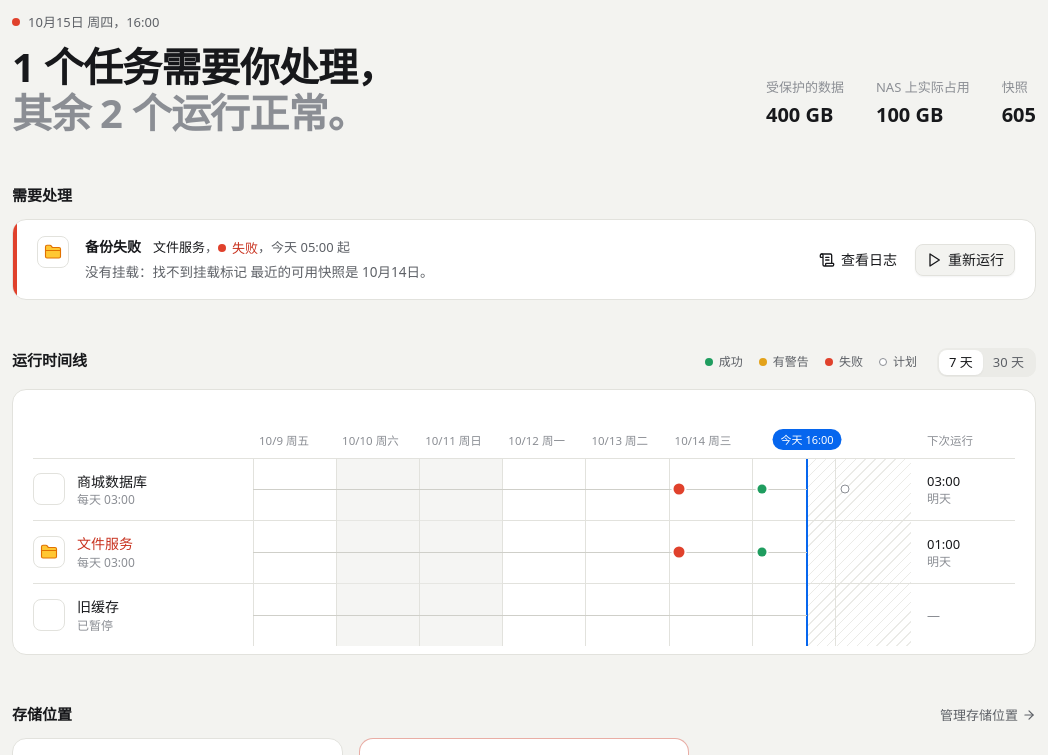
概览页 › 时间线：悬停显示时间和结果
Hover over the link named "今天 03:00，成功" in the row of "商城数据库": {"x": 762, "y": 489} 758,485 -> 767,494
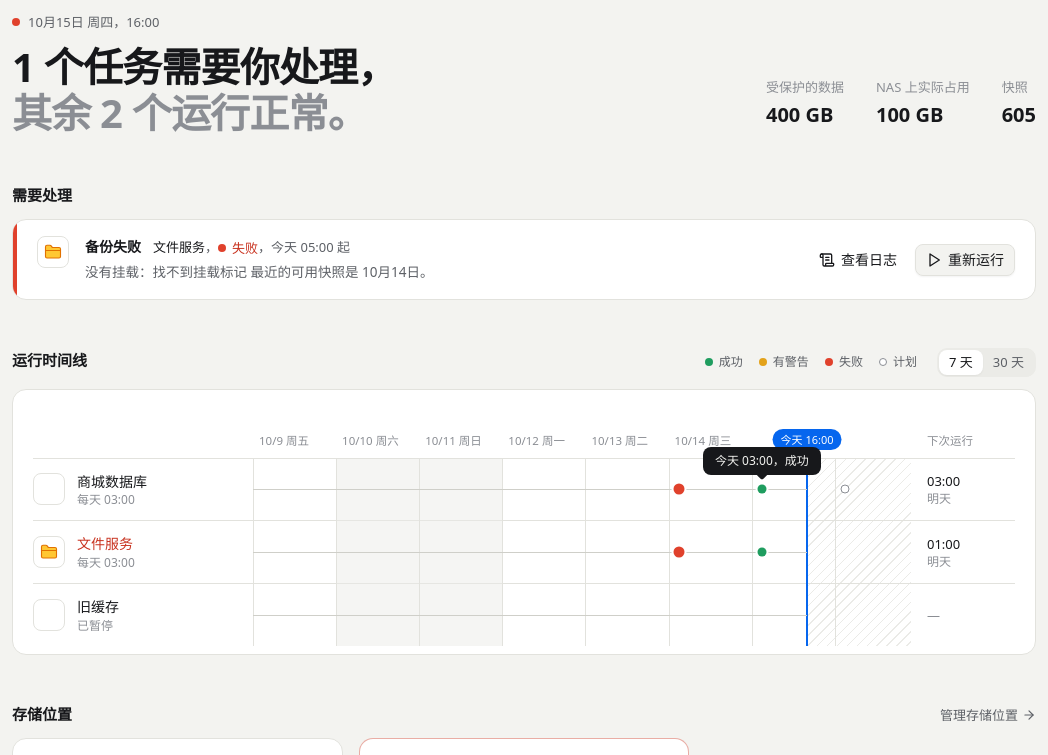
Check: the tooltip "今天 03:00，成功" is shown, box 703,447 -> 821,475
